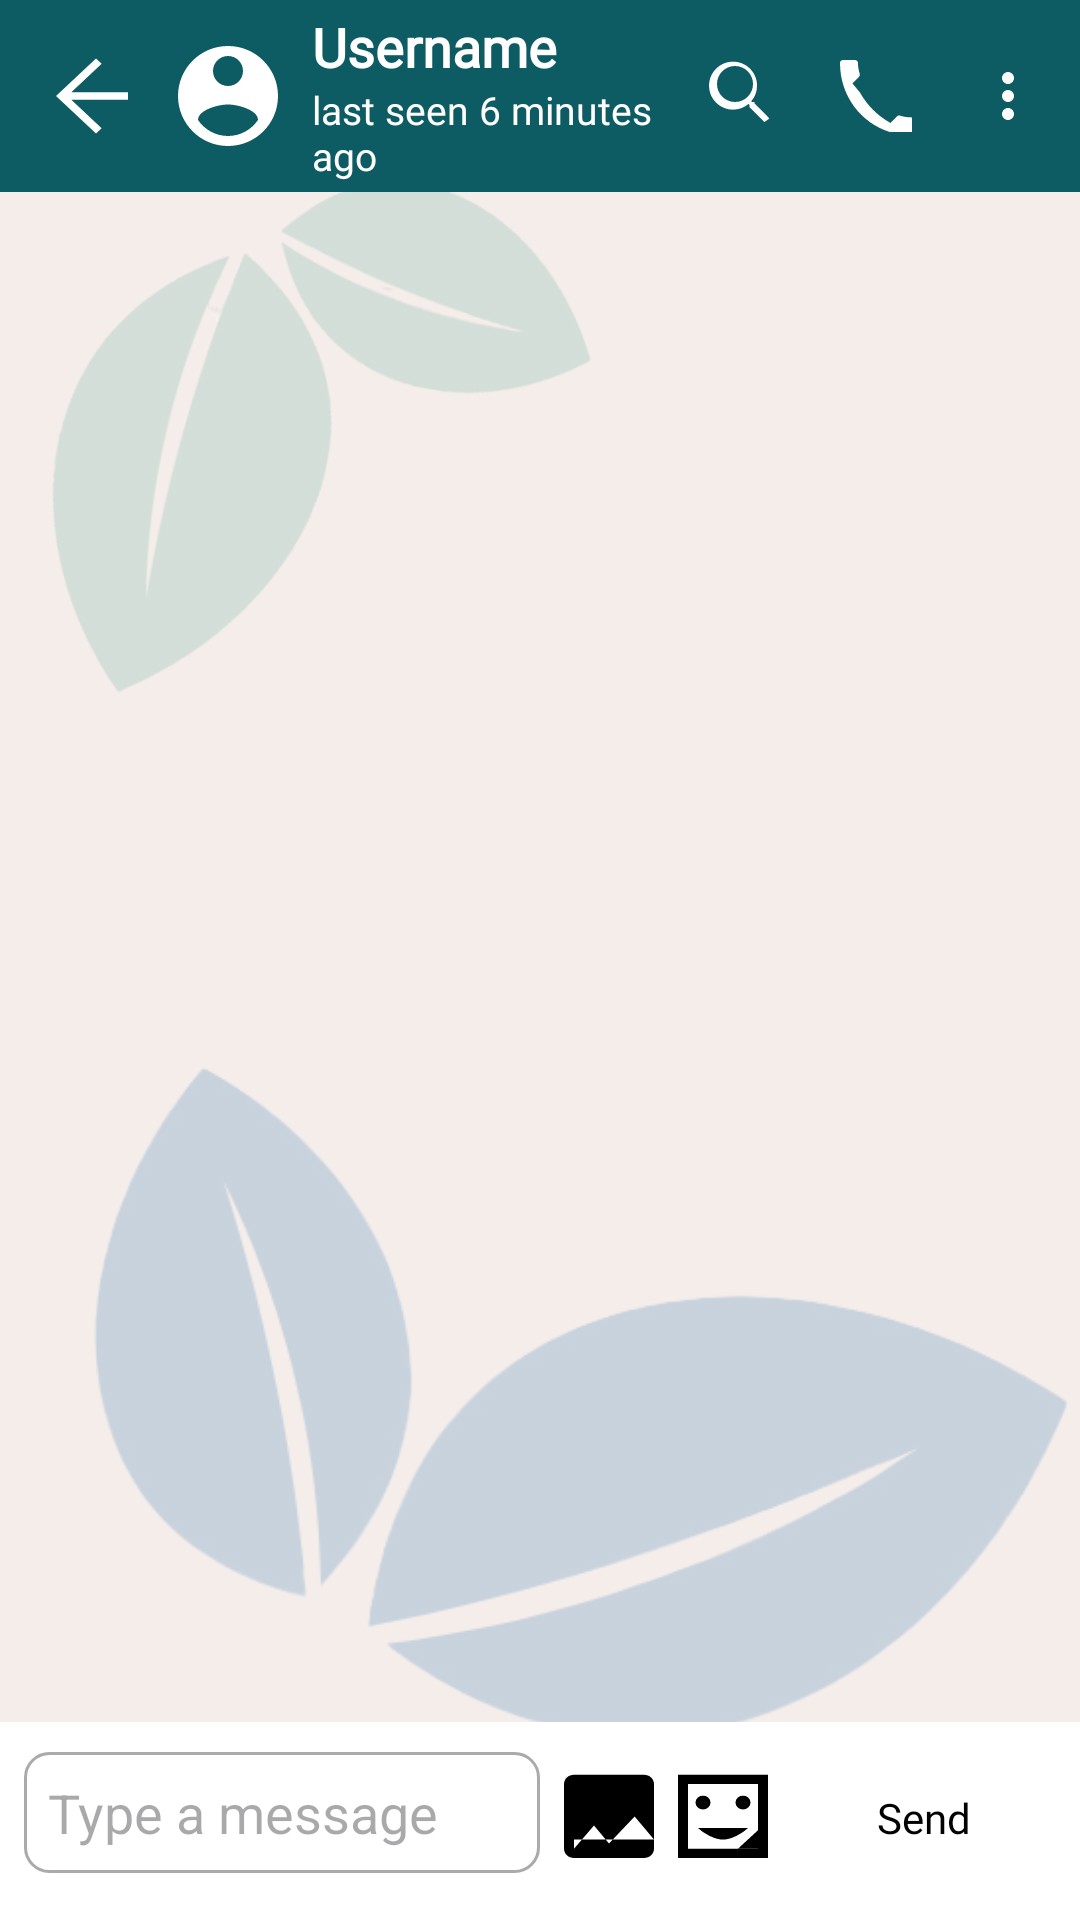

Screen size 1080px×1920px. Icon name, then its center in pixels as (x=x, y=y):
Back: (x=92, y=96)
Call: (x=876, y=96)
More: (x=1008, y=96)
Search: (x=739, y=91)
Select Image: (x=609, y=1816)
Select Sticker: (x=723, y=1816)
